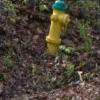Hydrant: (38, 1, 73, 61)
